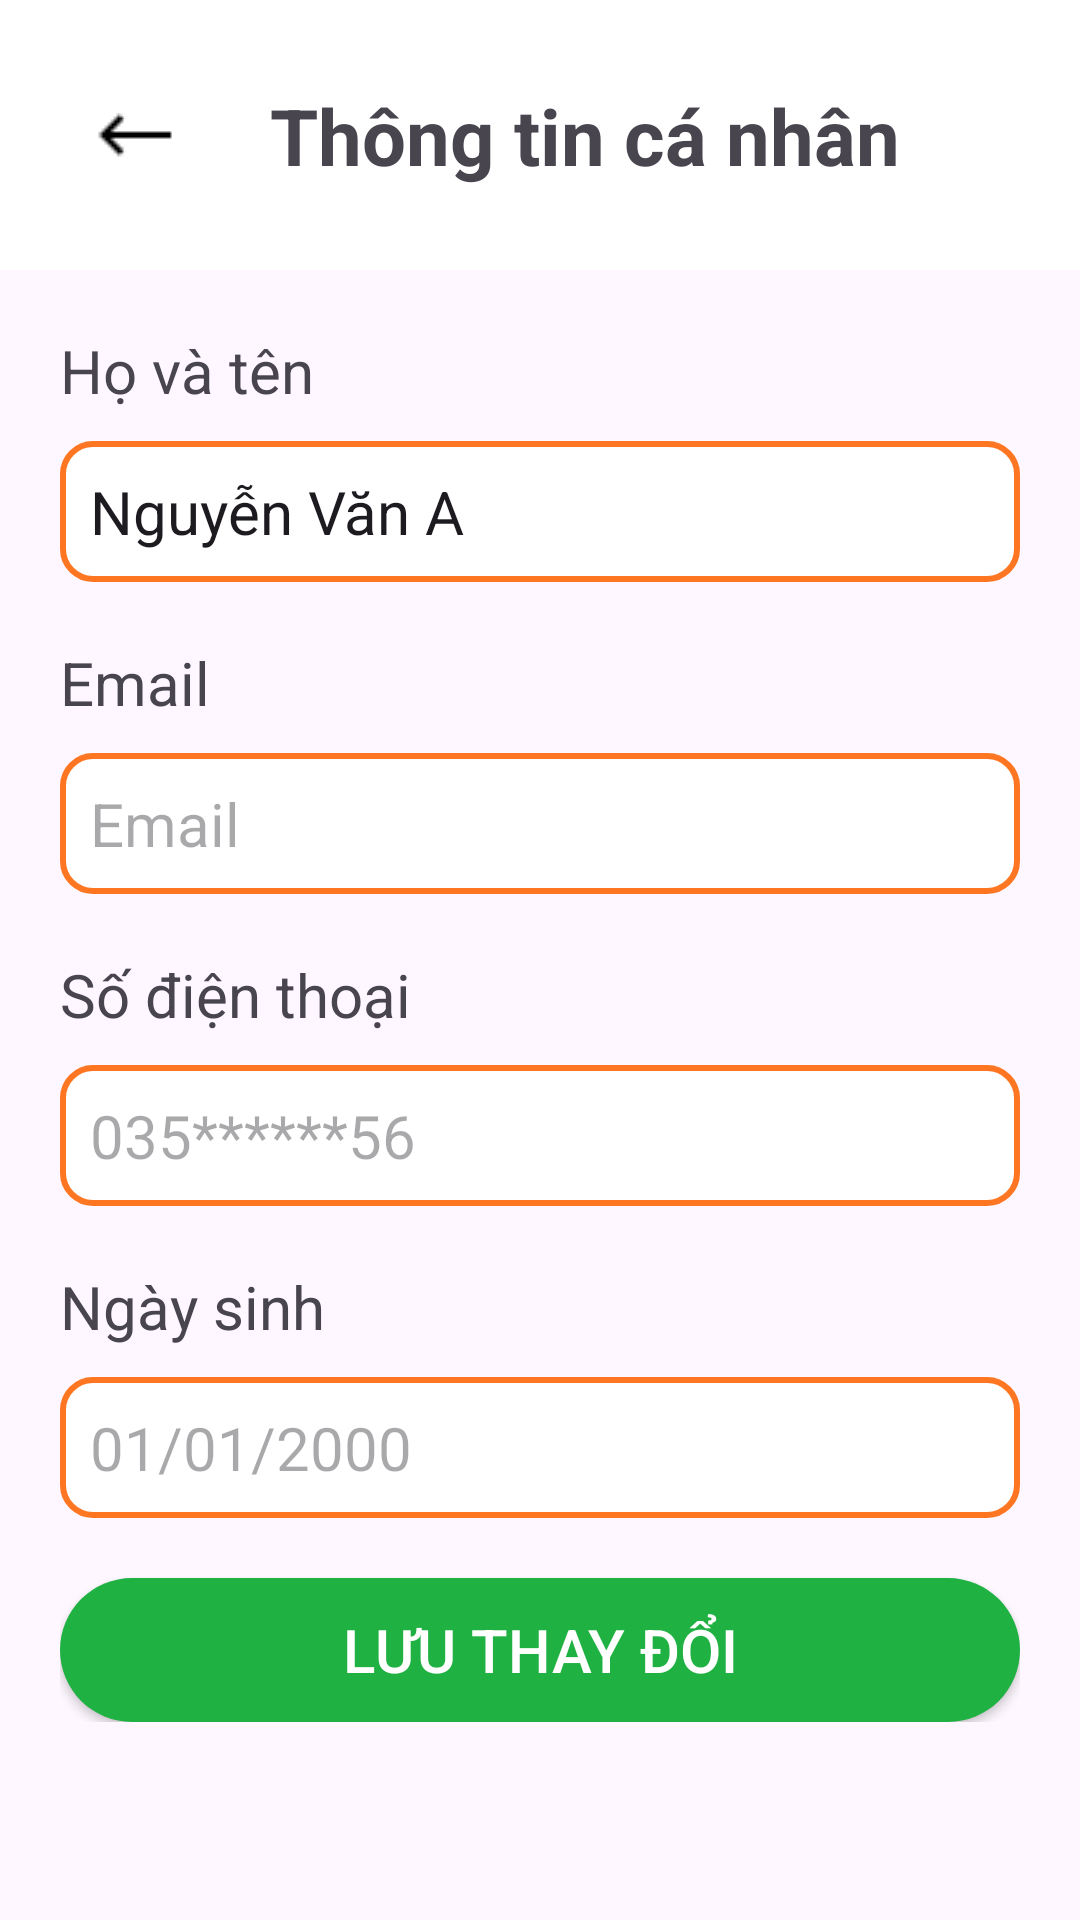

Locate icon controls on the screen. Image size 1080 x 1920, boxes as BBox(x1, y1, x2, y2).
Nút quay lại: BBox(98, 113, 172, 157)
